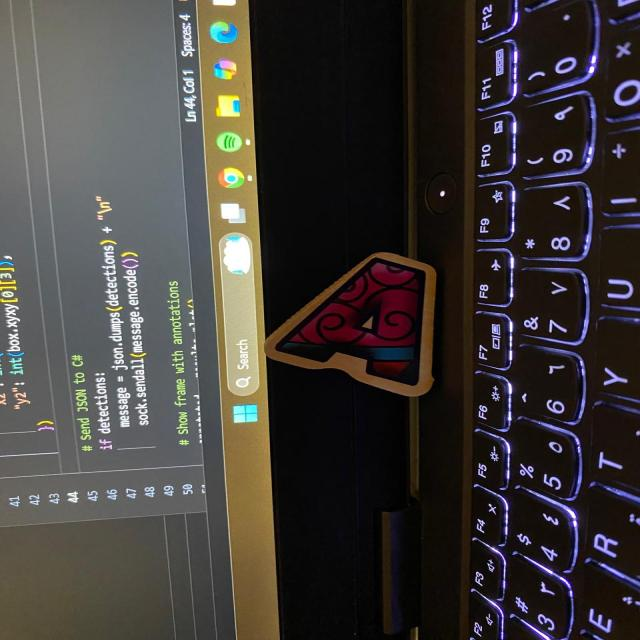A: (265, 254, 435, 396)
